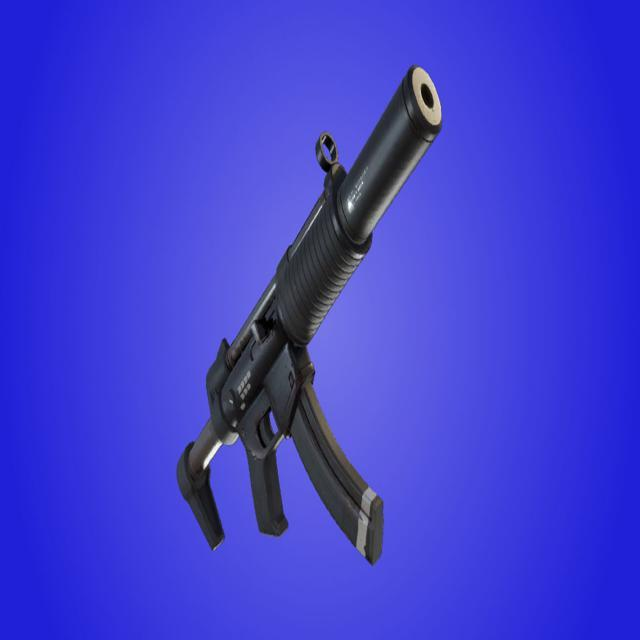smg: (167, 58, 447, 577)
